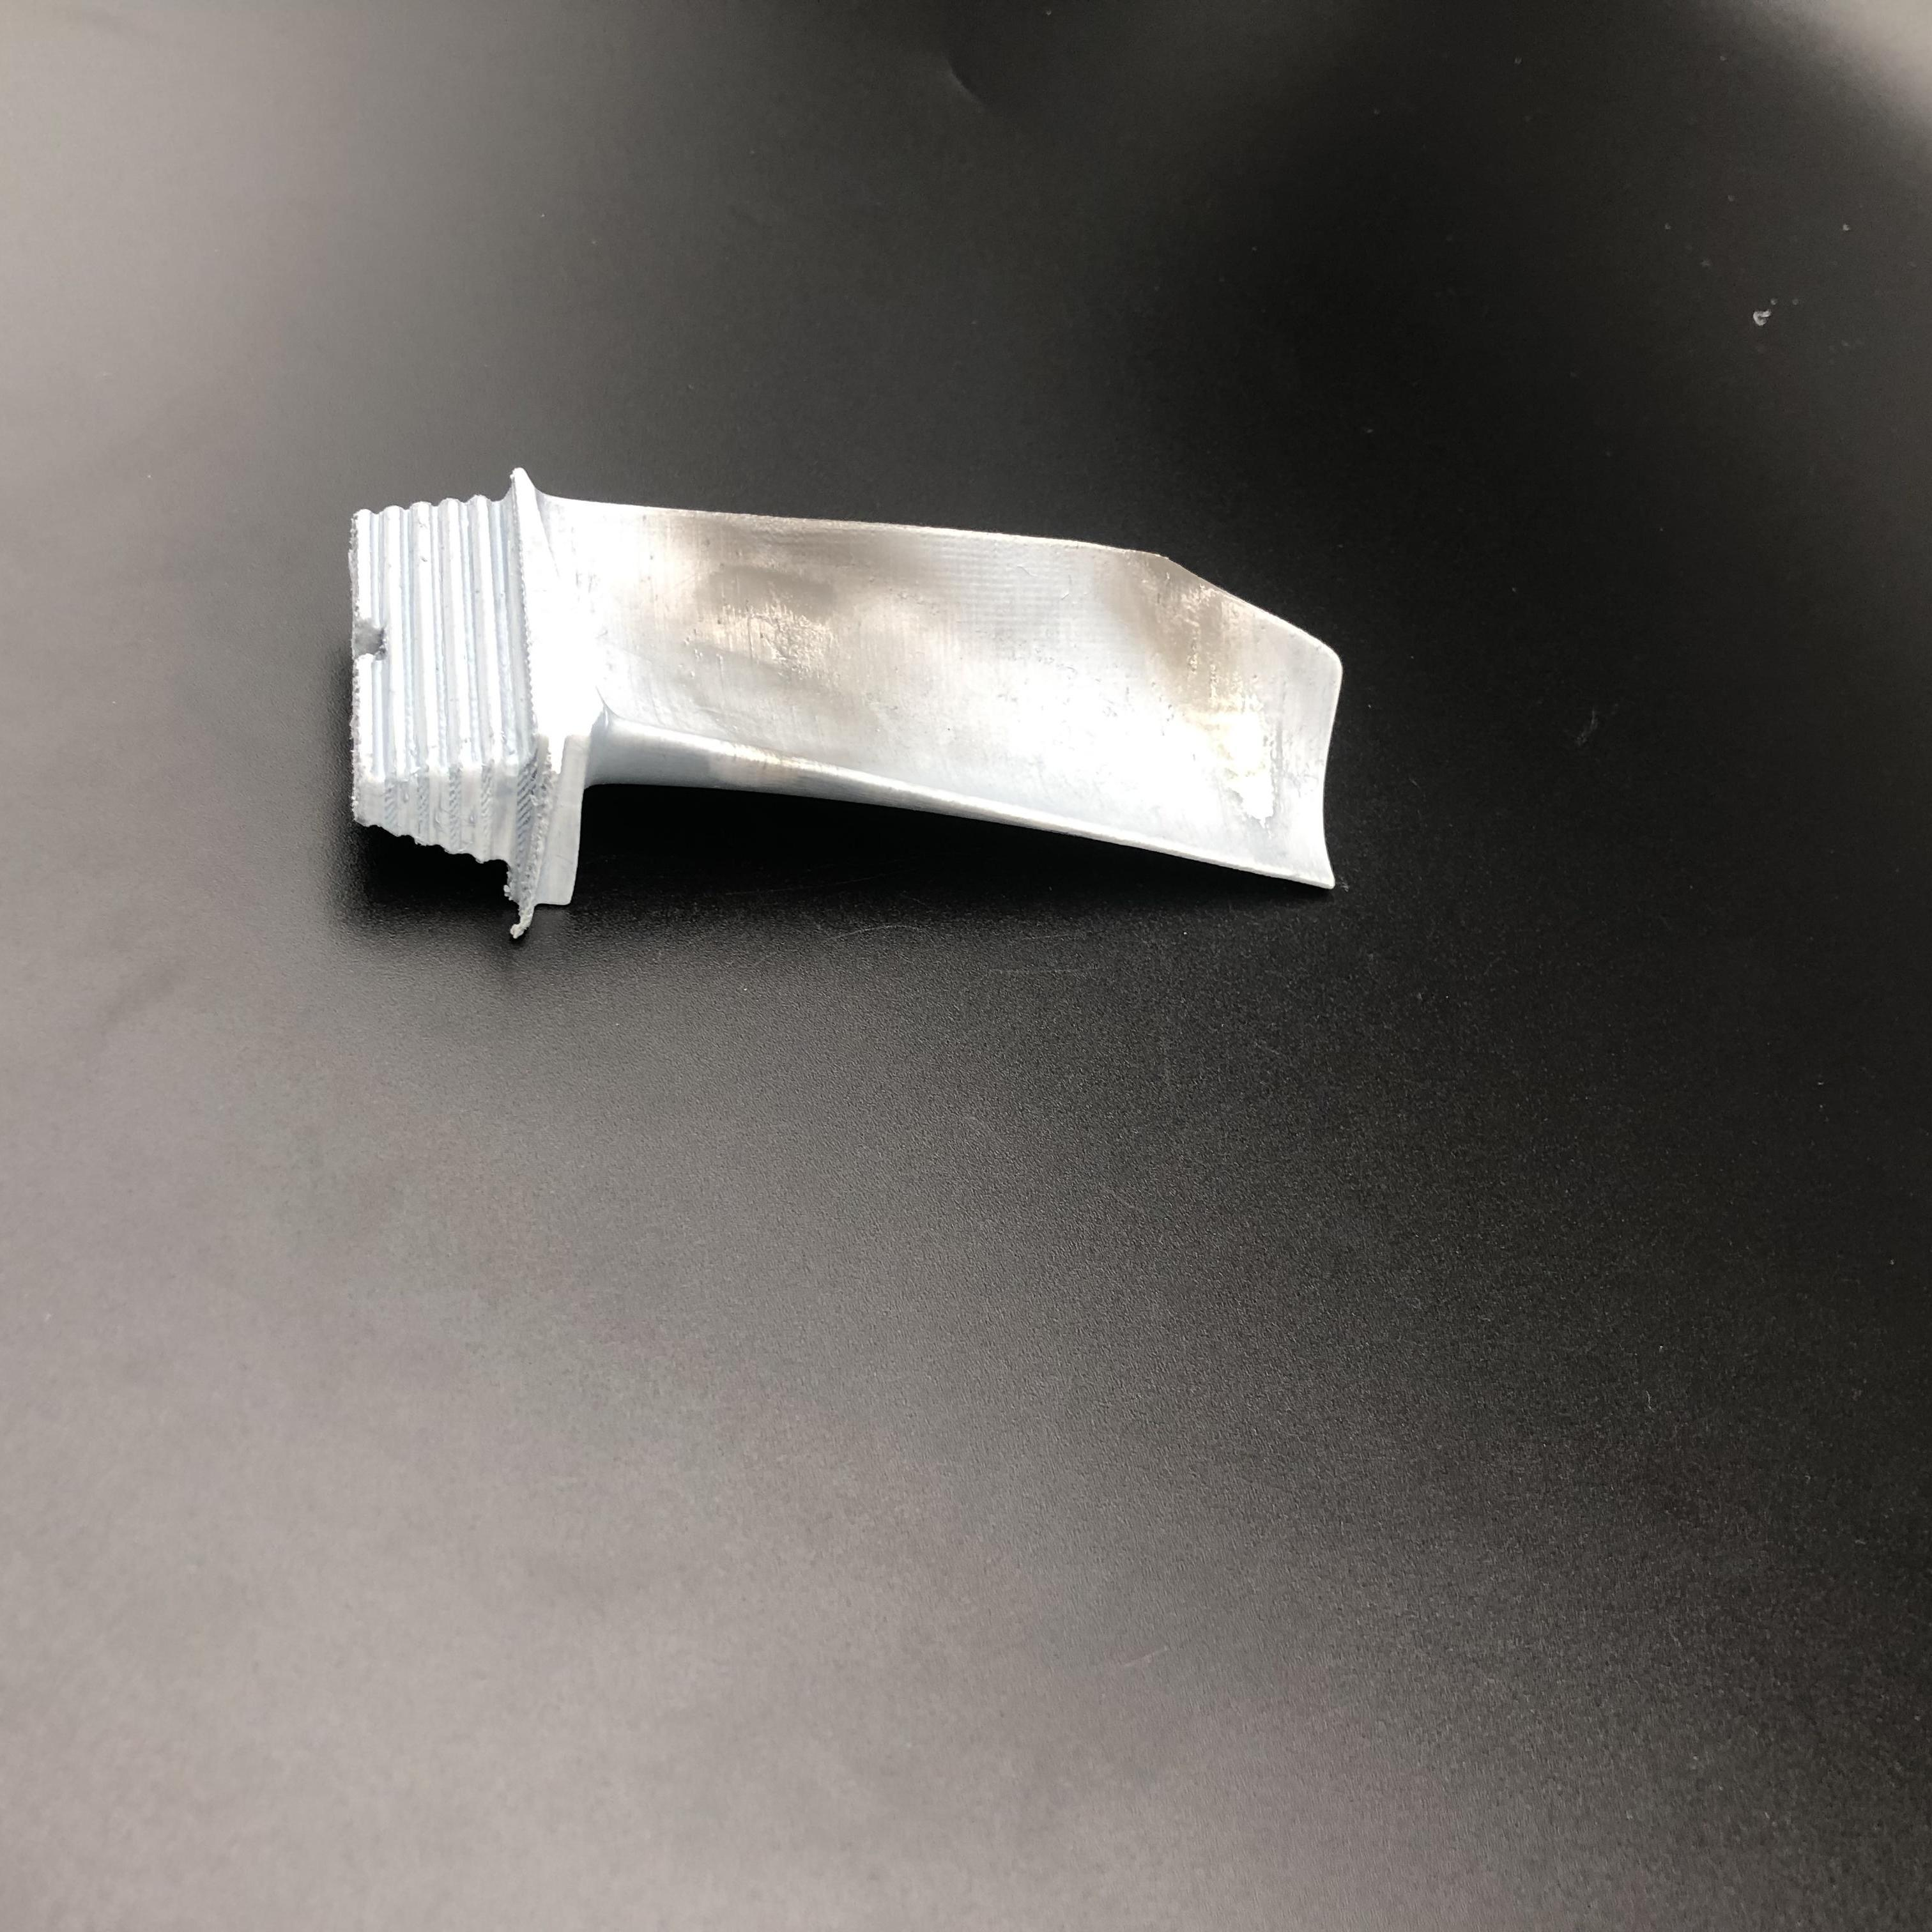ablation: (665, 520, 968, 766), (1116, 554, 1302, 826)
